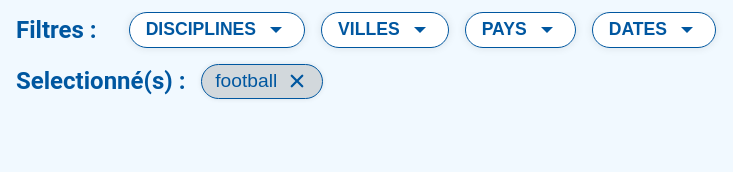
it: search filters component › suppression du filtre séléctionné
The width and height of the screenshot is (733, 172).
Click the button "football". click: (262, 81)
box: [202,64,323,99]
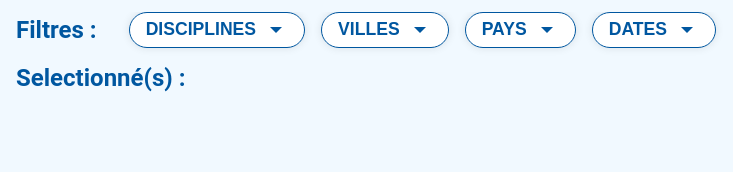
Check: the button "football" is gone
